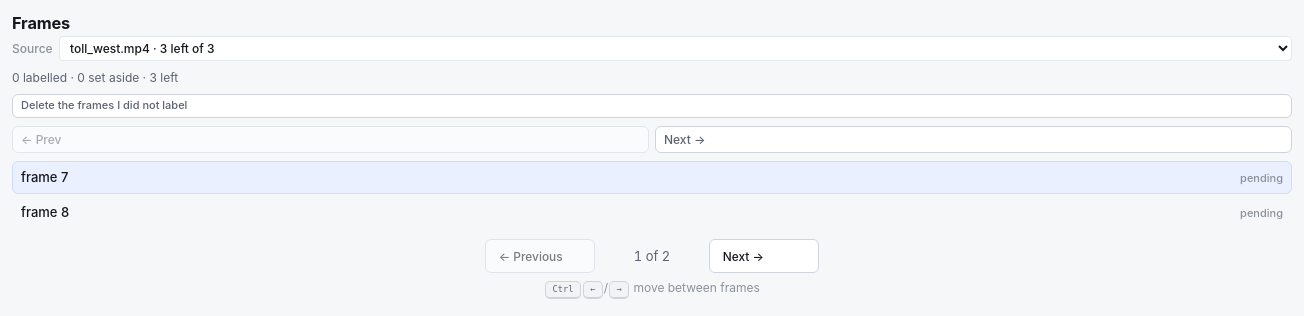
FrameNav › next means the next frame of the chosen source
Click the button with aria-label "next frame in the queue" at coordinates (764, 256), box [709,239,819,273]
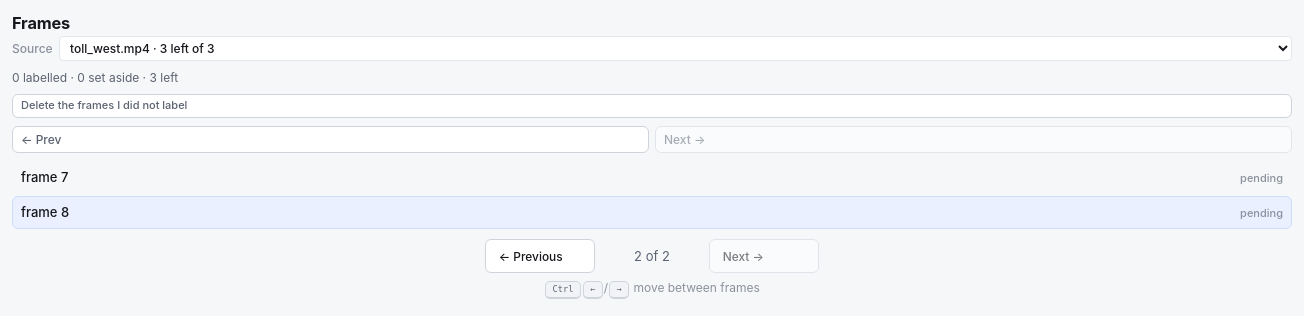
Now the text with test id "frame-position" reads "2 of 2", box [634,248,670,264]
